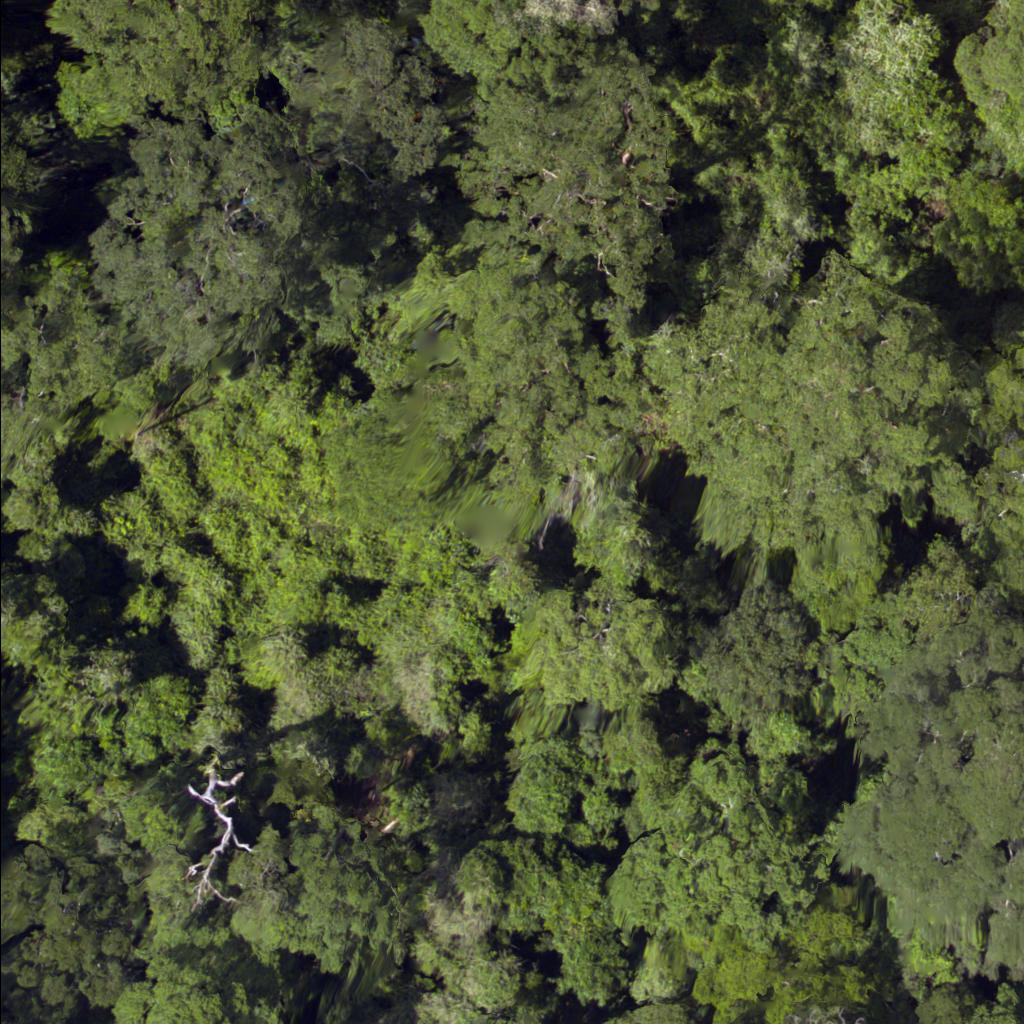crown: (958, 0, 1023, 104)
